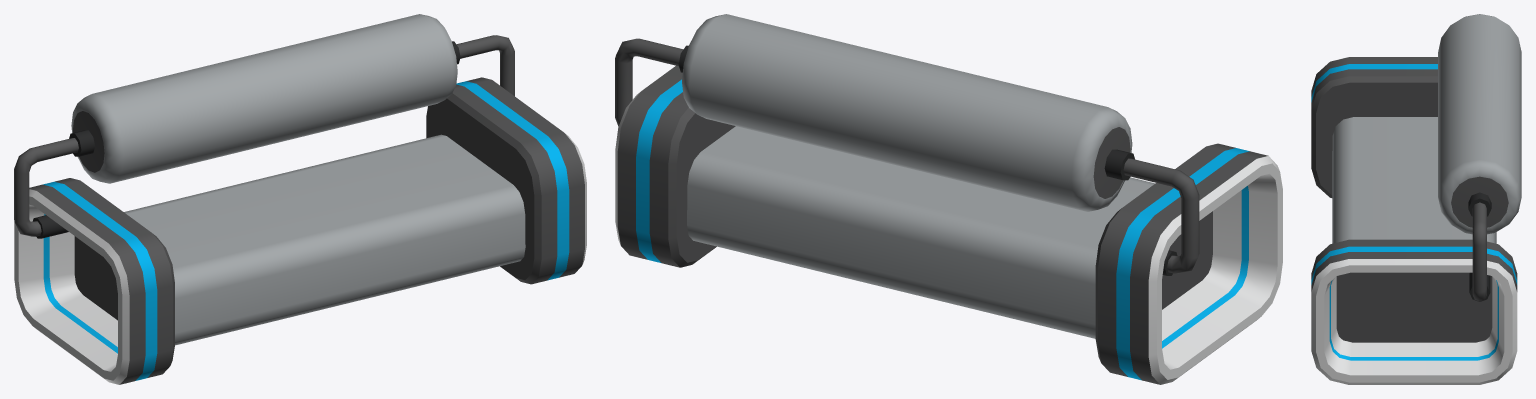
The model's file is Sofa_006.fbx.
3 renders of one model, left to right at view 1: azimuth 30°, elevation 25°; view 2: azimuth 150°, elevation 25°; view 3: azimuth 270°, elevation 25°, orthographic. The views are drawn at different scales.
Visible parts, largest first — view 1: Sofa_006; view 2: Sofa_006; view 3: Sofa_006.
Boxes of the visible parts, x1,y1,x2,y2 form: Sofa_006: (14,14,586,384); Sofa_006: (615,14,1282,384); Sofa_006: (1311,14,1521,384).
Bounding box in the file's own units: 224 × 89.85 × 92.89.
